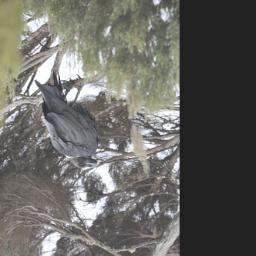Crow: (35, 66, 99, 170)
